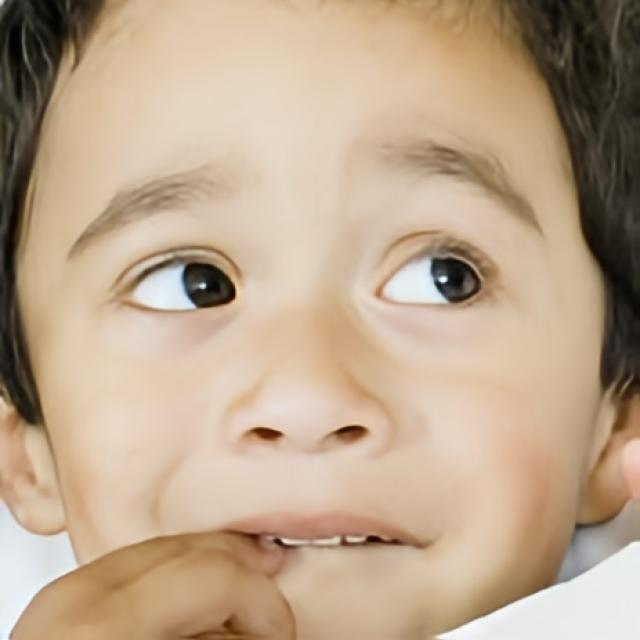fear: (10, 0, 606, 640)
